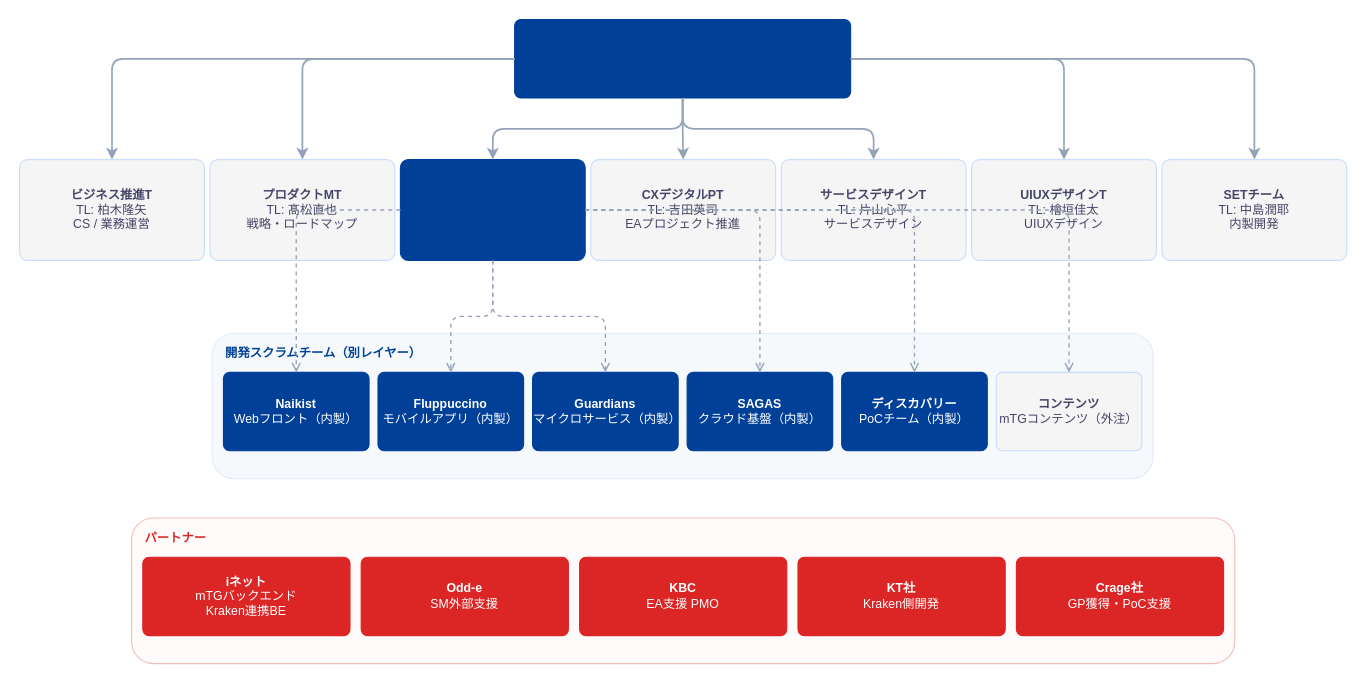
This 1366x683 diagram has some shape labels left out. The centre of each missing label's shape, as x and y in pixels:
"デジタルプラットフォームG GM: 及川敬仁" goes at point 682,58.
"デリバリーMT TL: 杉﨑洋平 スループット確保" goes at point 492,209.
